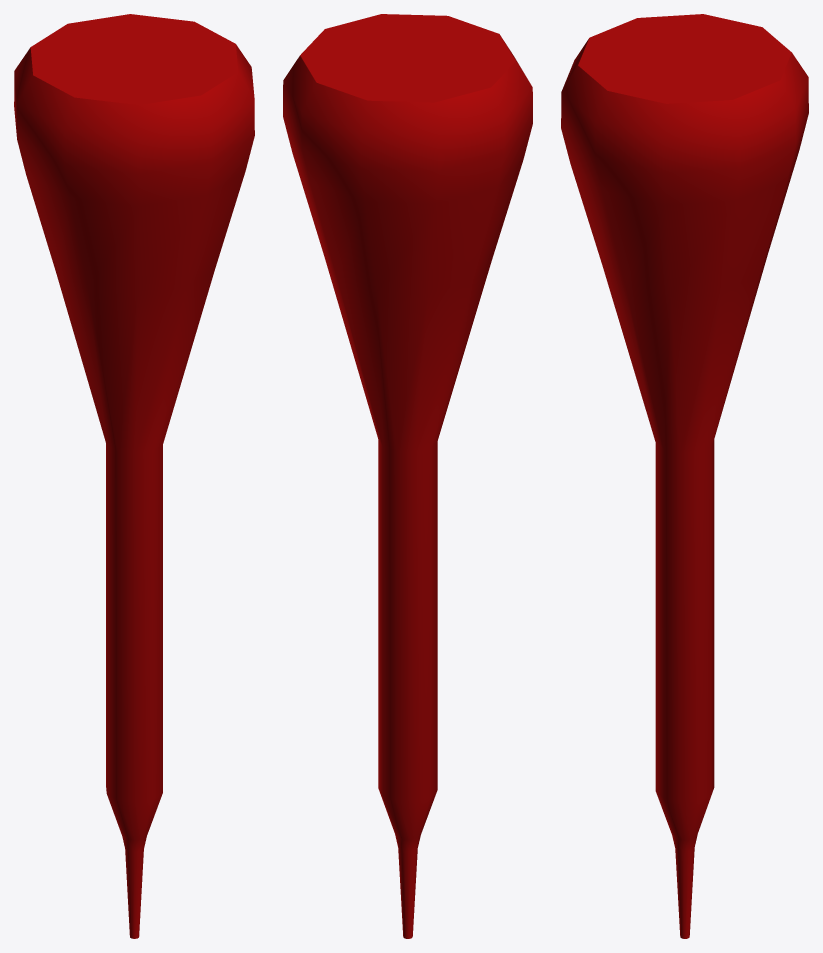
File: SM_甲基红胶头滴管液体.fbx
The picture shows the model from 3 angles, left to right: view 1: azimuth 30°, elevation 25°; view 2: azimuth 150°, elevation 25°; view 3: azimuth 270°, elevation 25°; orthographic projection.
Visible parts, largest first — view 1: SM_甲基红胶头滴管液体; view 2: SM_甲基红胶头滴管液体; view 3: SM_甲基红胶头滴管液体.
Part boxes in pixels (x1,y1,x2,y2): SM_甲基红胶头滴管液体: (14,14,254,938); SM_甲基红胶头滴管液体: (283,14,532,938); SM_甲基红胶头滴管液体: (561,14,808,938).
Size of the model in its own units: 0.0198 by 0.0778 by 0.0199.
